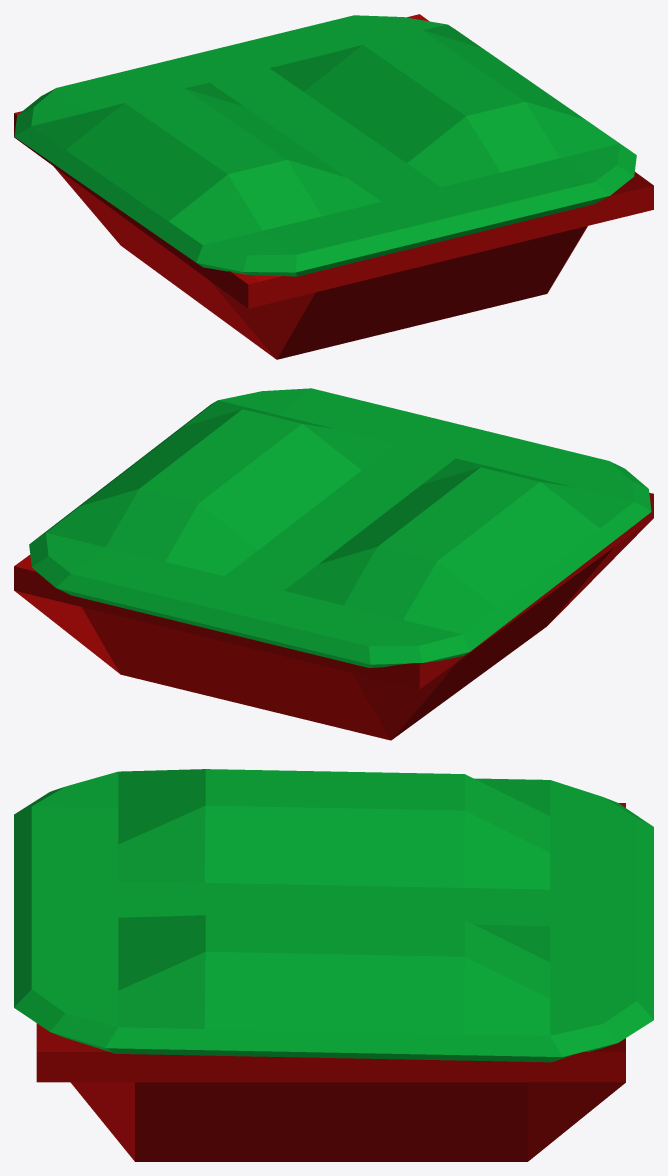
The model's file is HoundPit3d.obj.
3 views of the same model, one above another, from view 1: azimuth 30°, elevation 25°; view 2: azimuth 150°, elevation 25°; view 3: azimuth 270°, elevation 25° (orthographic). The views are drawn at different scales.
Visible parts, largest first — view 1: Cube.001, Cube; view 2: Cube.001, Cube; view 3: Cube.001, Cube.
Boxes of the visible parts, x1=… form: Cube.001: x1=14, y1=15, x2=636, y2=276; Cube: x1=14, y1=14, x2=653, y2=359; Cube.001: x1=29, y1=388, x2=651, y2=667; Cube: x1=14, y1=493, x2=653, y2=740; Cube.001: x1=14, y1=769, x2=653, y2=1062; Cube: x1=36, y1=803, x2=625, y2=1161.
Bounding box in the file's own units: 1.67 × 0.7896 × 1.67.
